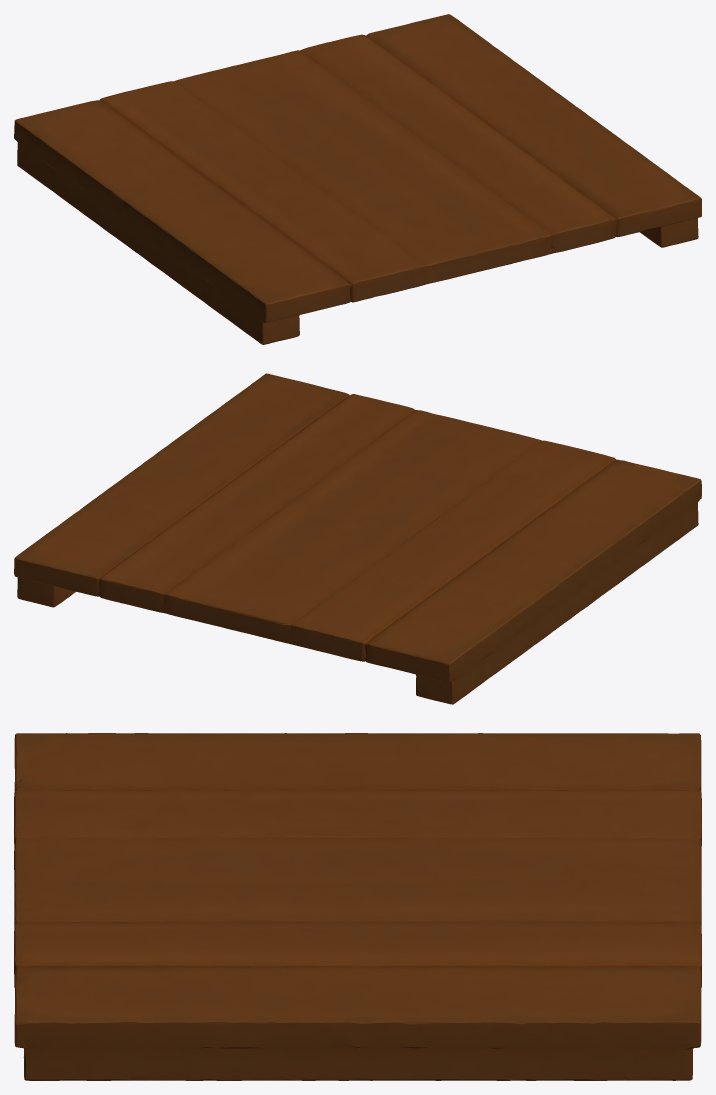
File: Bridge.fbx
3 renders of one model, top to bottom at view 1: azimuth 30°, elevation 25°; view 2: azimuth 150°, elevation 25°; view 3: azimuth 270°, elevation 25°, orthographic. The views are drawn at different scales.
Visible parts, largest first — view 1: model; view 2: model; view 3: model.
Part boxes in pixels (x1,y1,x2,y2): model: (14, 14, 701, 344); model: (14, 373, 701, 704); model: (14, 733, 701, 1080).
Bounding box in the file's own units: 190 × 18.9 × 191.
1 material, 1 textured.
